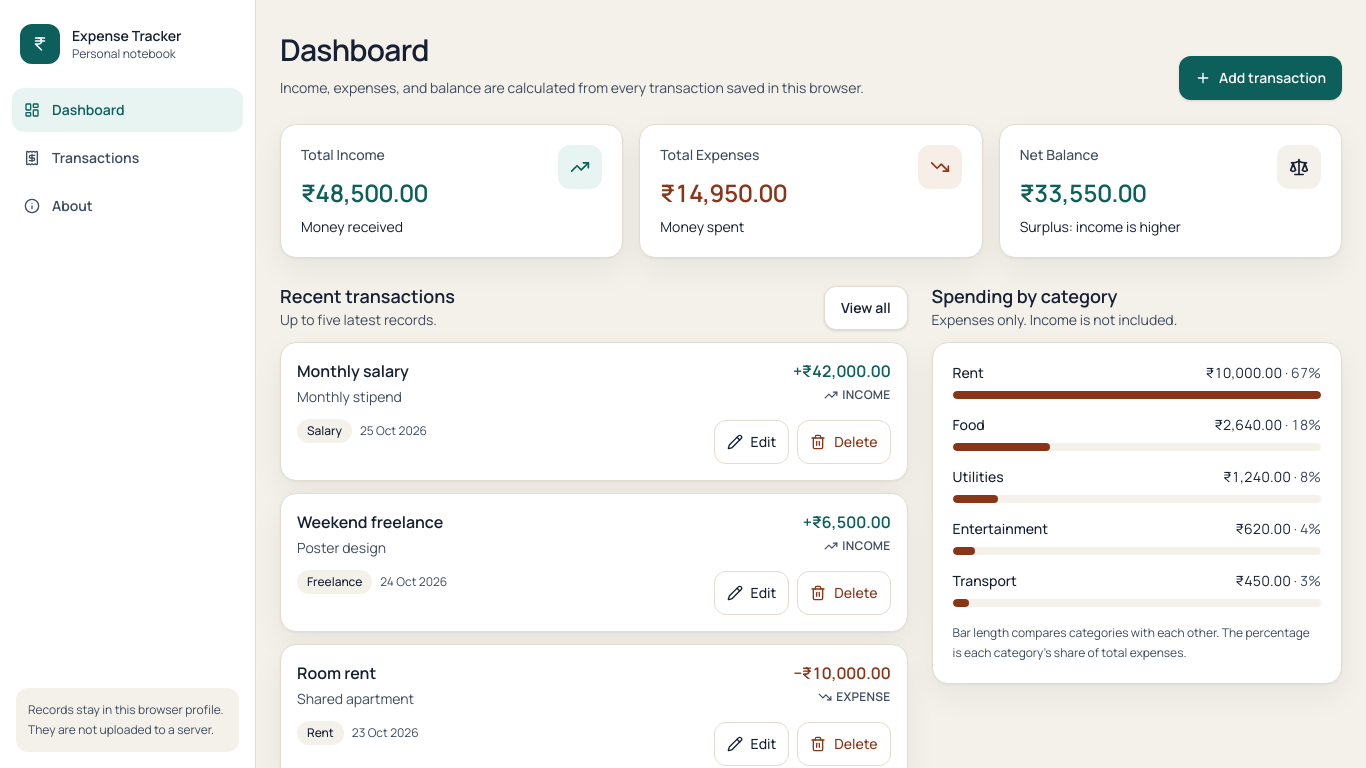
Test case: Expense Tracker › asks before deleting and then updates the totals
Expected: the heading "Dashboard" is shown, [280,29,429,70]
Step 1. Click the button with aria-label "Delete Monthly salary" → click(844, 442), box [797,420,891,464]
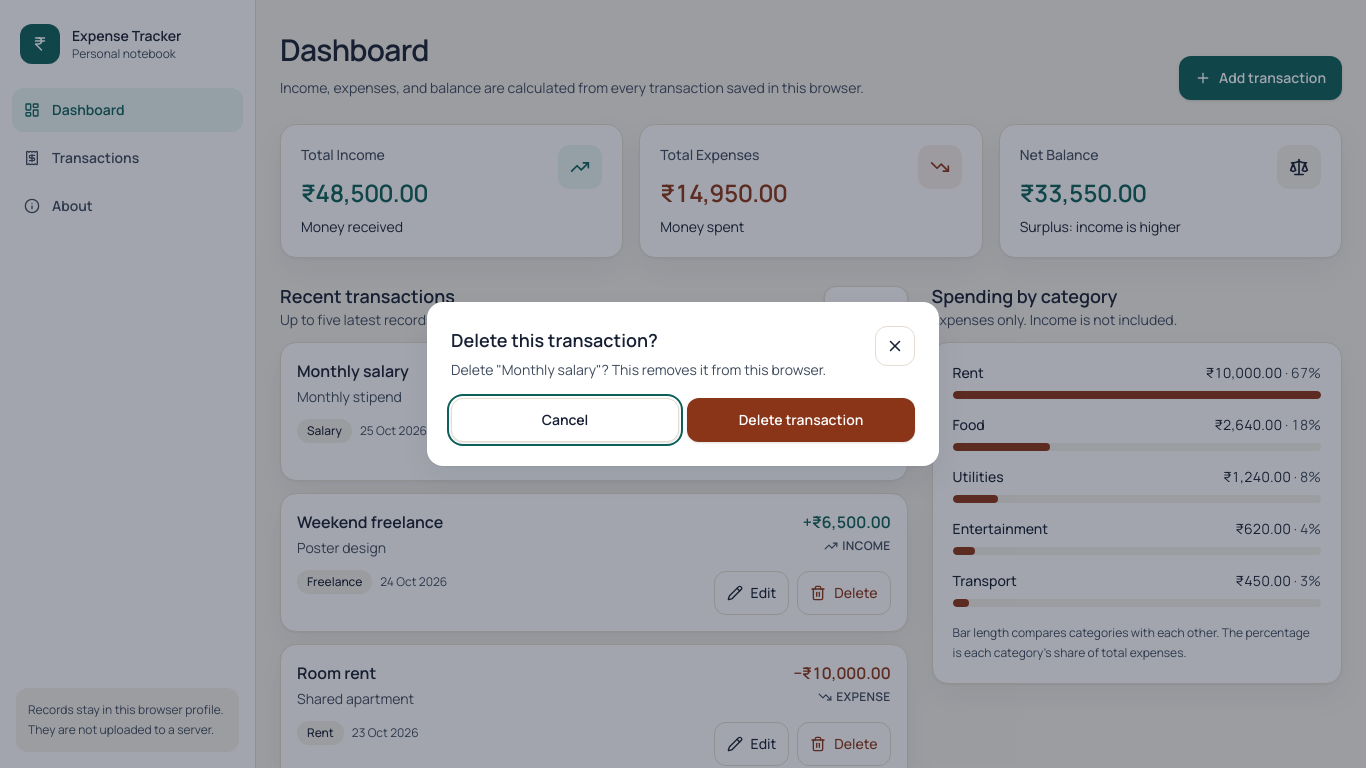
Step 2. Click the button "Cancel" → click(565, 420), box [451,398,679,442]
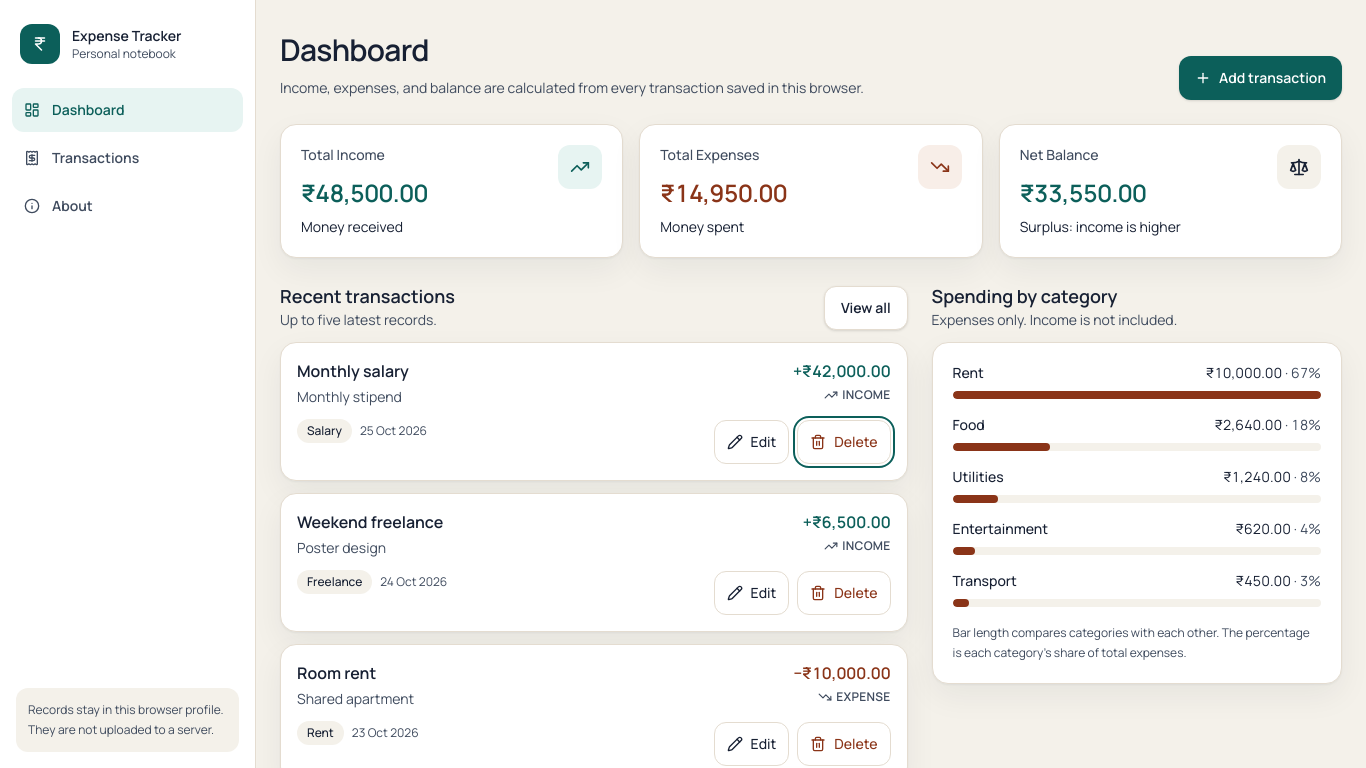
Expected: the text "Monthly salary" is shown, [297,359,427,383]
Step 3. Click the button with aria-label "Delete Monthly salary" → click(844, 442), box [797,420,891,464]
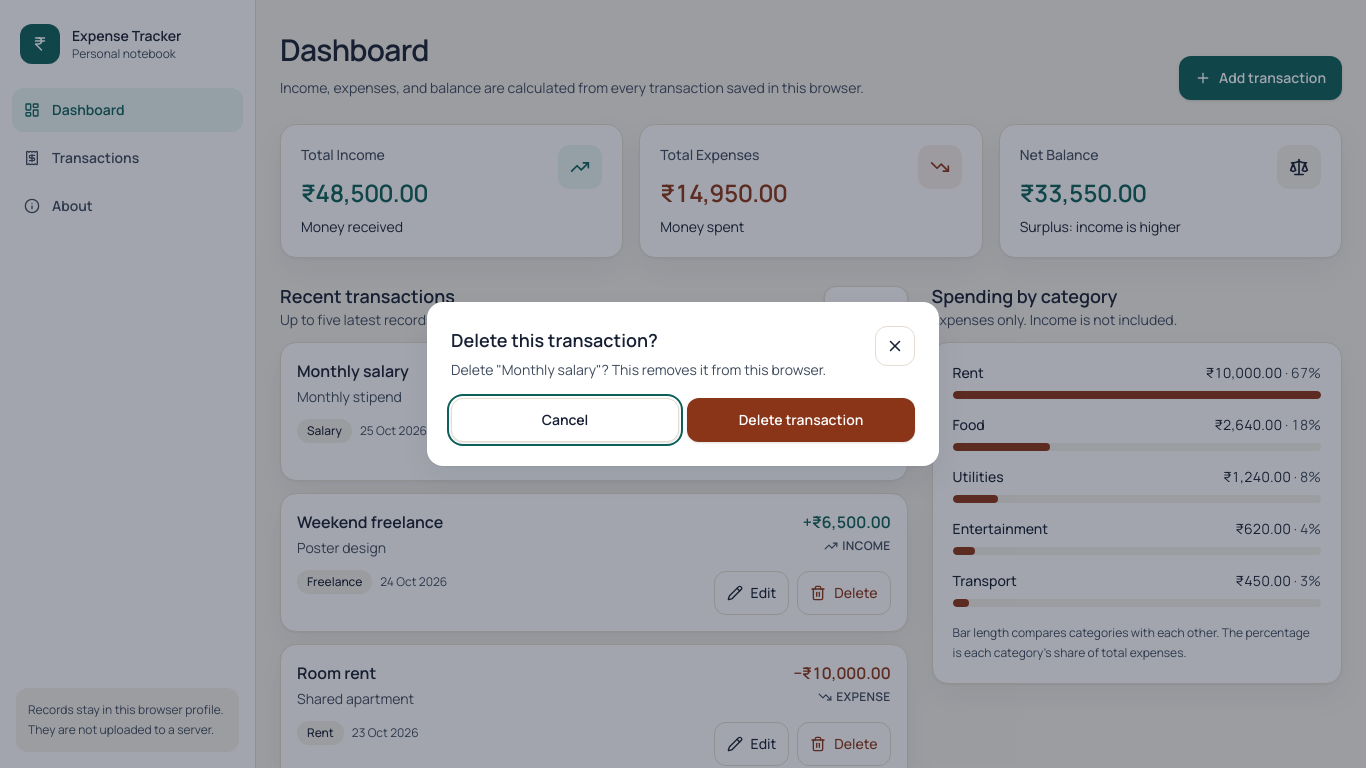
Step 4. Click the button "Delete transaction" → click(801, 420), box [687,398,915,442]
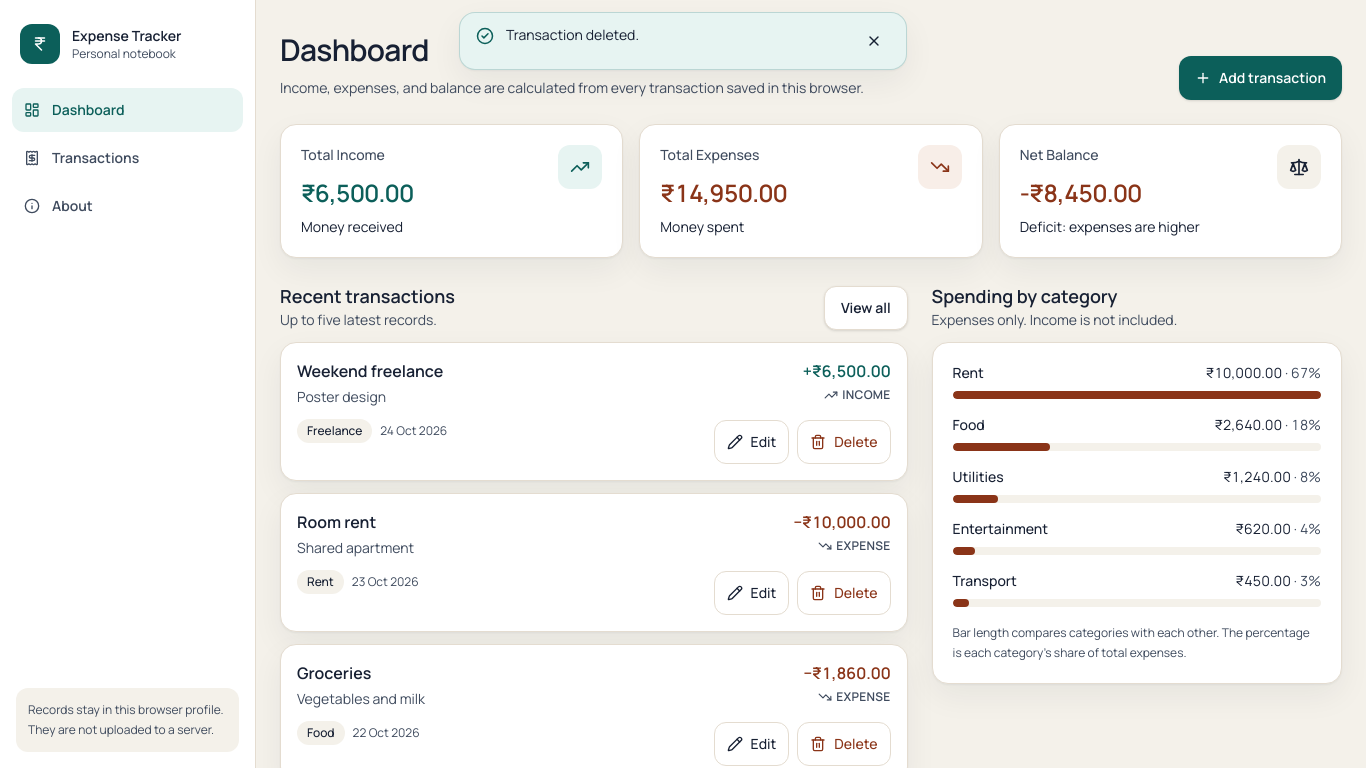
Expected: the text "Transaction deleted." is shown, [506,25,639,44]
Expected: the text "Monthly salary" is gone
